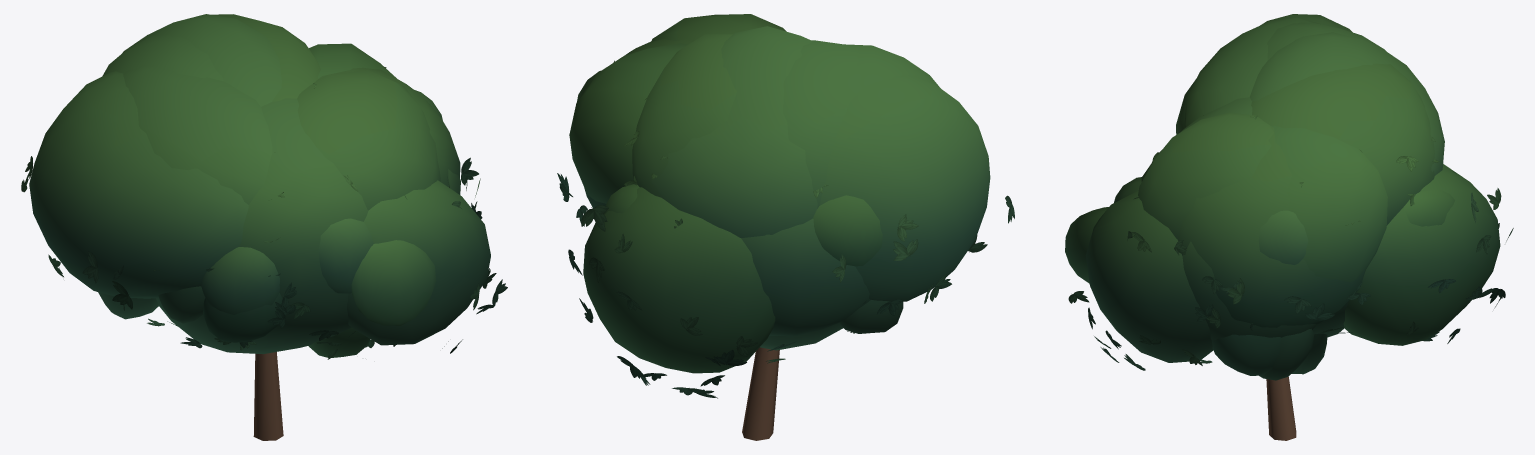
File: tree.glb
3 views of the same model, side by side, from view 1: azimuth 30°, elevation 25°; view 2: azimuth 150°, elevation 25°; view 3: azimuth 270°, elevation 25° (orthographic). The views are drawn at different scales.
Visible parts, largest first — view 1: tree_gradient, tree_426c38, tree, tree_426a35, tree_leaves, tree_5c4232, tree_264d32, tree_1c402e, tree_426d38; view 2: tree_gradient, tree_426c38, tree, tree_264d32, tree_426a35, tree_leaves, tree_5c4232, tree_426d38; view 3: tree_gradient, tree_426c38, tree_426a35, tree, tree_264d32, tree_leaves, tree_1c402e, tree_426d38, tree_5c4232.
Boxes of the visible parts, x1,y1,x2,y2 form: tree_gradient: [29, 45, 490, 317]; tree_426c38: [86, 14, 332, 173]; tree: [49, 246, 490, 354]; tree_426a35: [211, 14, 402, 154]; tree_leaves: [21, 66, 507, 359]; tree_5c4232: [253, 352, 283, 440]; tree_264d32: [308, 285, 431, 357]; tree_1c402e: [203, 298, 282, 342]; tree_426d38: [309, 43, 374, 78]; tree_gradient: [569, 18, 990, 330]; tree_426c38: [702, 26, 955, 139]; tree: [588, 195, 972, 350]; tree_264d32: [583, 268, 775, 373]; tree_426a35: [631, 14, 786, 110]; tree_leaves: [557, 60, 1014, 398]; tree_5c4232: [742, 347, 779, 440]; tree_426d38: [614, 43, 688, 96]; tree_gradient: [1065, 50, 1500, 337]; tree_426c38: [1181, 14, 1422, 131]; tree_426a35: [1172, 63, 1411, 181]; tree: [1090, 279, 1356, 380]; tree_264d32: [1065, 243, 1500, 345]; tree_leaves: [1068, 115, 1513, 370]; tree_1c402e: [1219, 286, 1359, 327]; tree_426d38: [1272, 125, 1361, 169]; tree_5c4232: [1266, 376, 1296, 440].
Size of the model in its own units: 10.44 by 9.93 by 11.11.
Materials: 13 (1 with a texture image).
